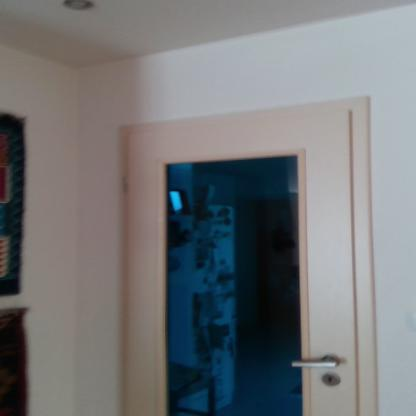door: (126, 134, 360, 416)
hinged: (117, 173, 130, 195)
lever: (285, 355, 337, 372)
